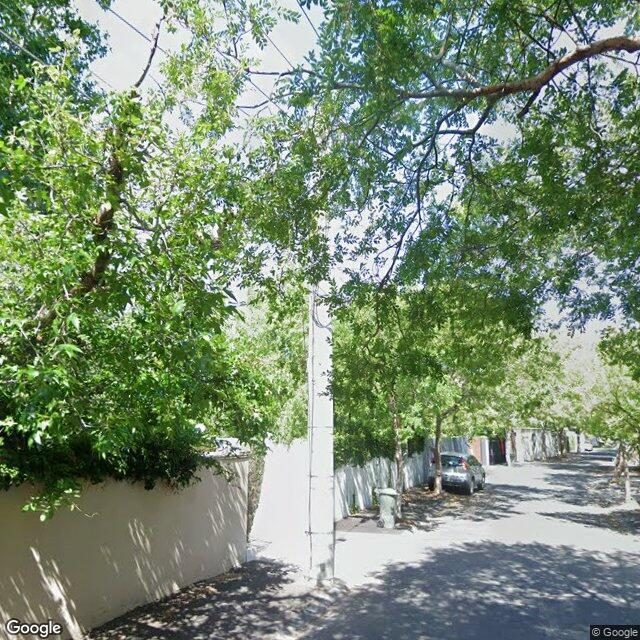timber-pole: (305, 88, 335, 586)
